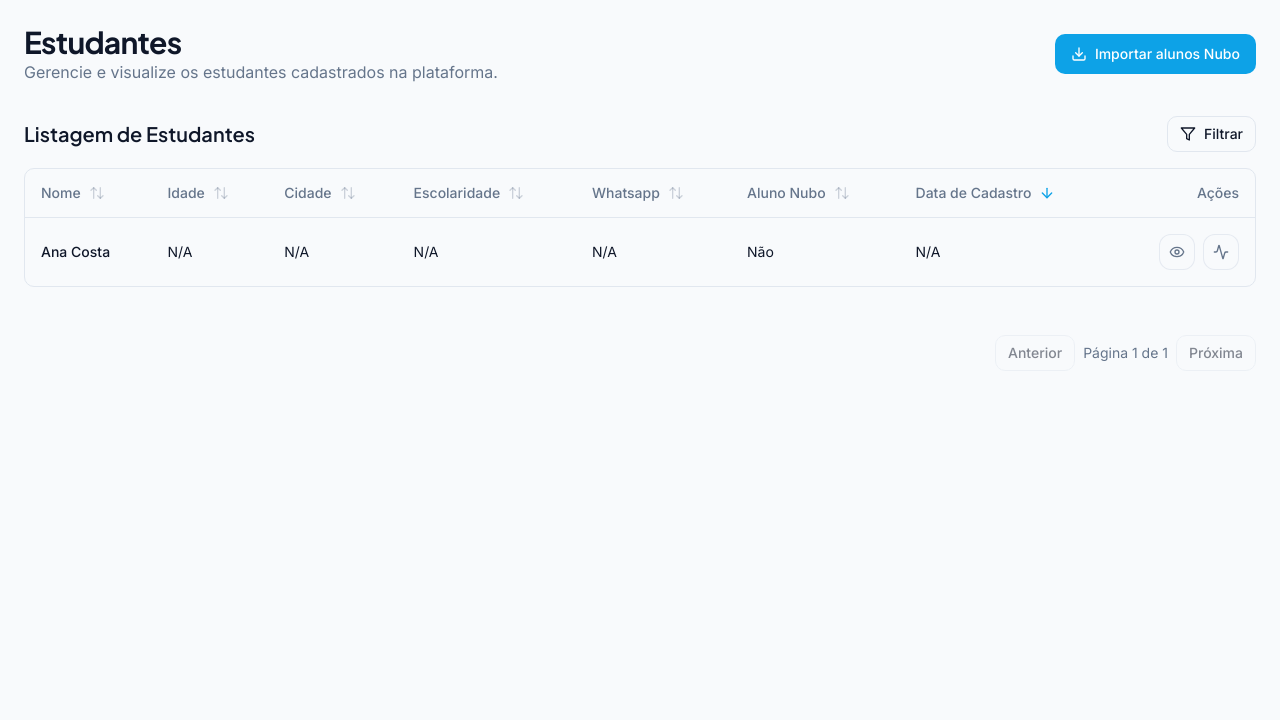
Test case: moves between profile and activity for the same student, with Matches only in activity
Click the button named "Ver perfil".
click(1177, 252)  # box [1159, 234, 1195, 270]
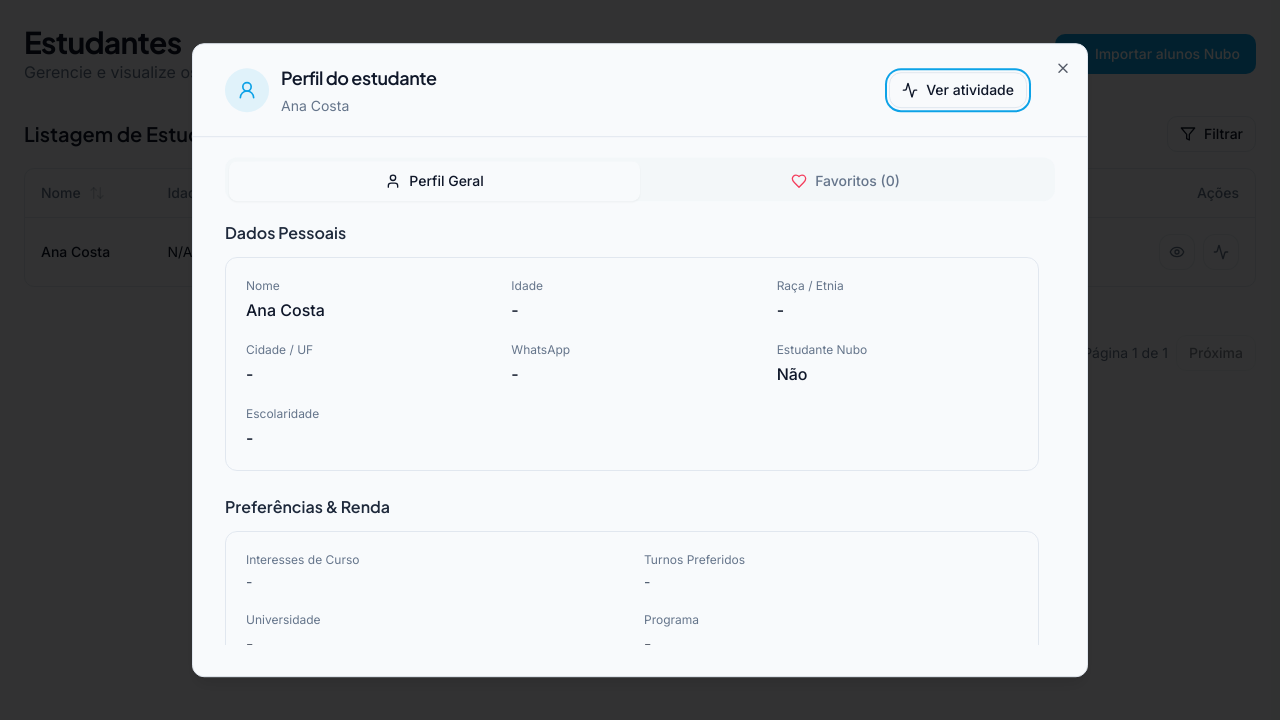
Check: the heading "Perfil do estudante" is shown, box [281, 66, 436, 89]
Check: the tab "Perfil Geral" is shown, box [229, 161, 640, 201]
Check: the number of tabs is 2, box [229, 161, 640, 201]; [640, 161, 1051, 201]
Click the button "Ver atividade".
click(958, 90)  # box [889, 72, 1027, 108]
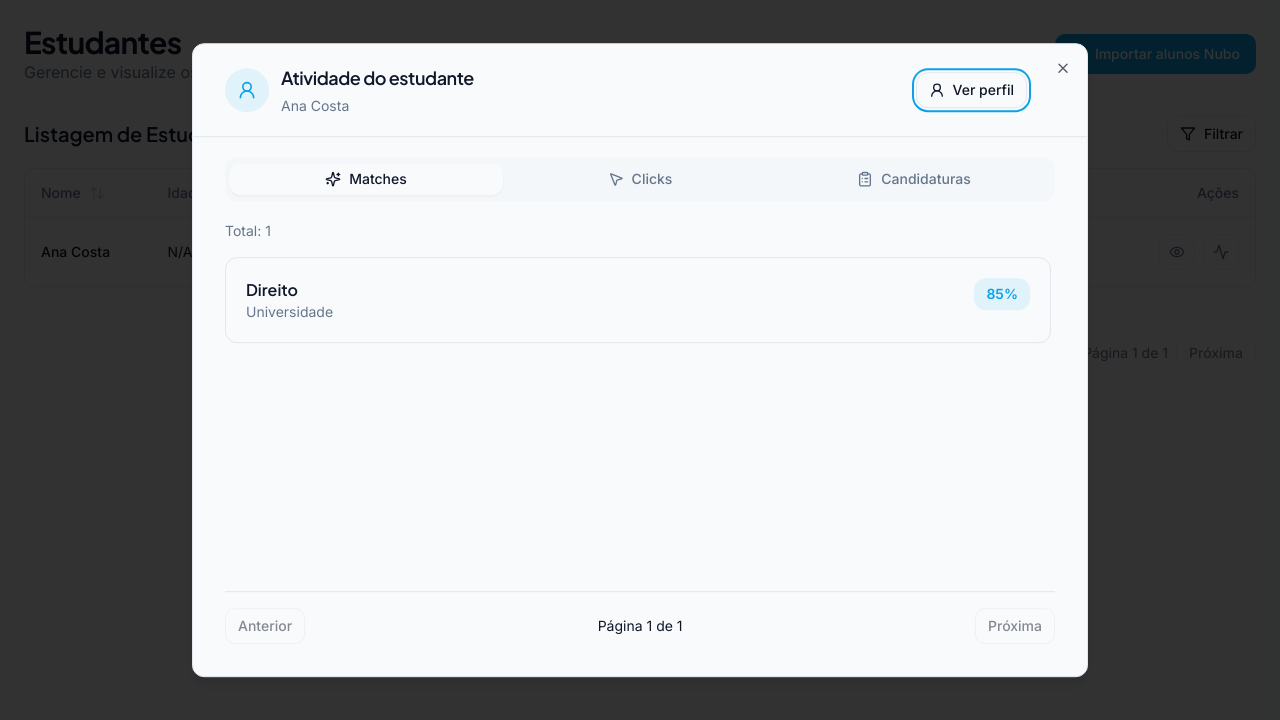
Check: the heading "Atividade do estudante" is shown, box [281, 66, 474, 89]
Check: the heading "Direito" is shown, box [246, 279, 298, 300]
Check: the number of tabs is 3, box [229, 163, 503, 195]; [503, 163, 777, 195]; [777, 163, 1051, 195]
Click the button "Ver perfil".
click(971, 90)  # box [916, 72, 1027, 108]
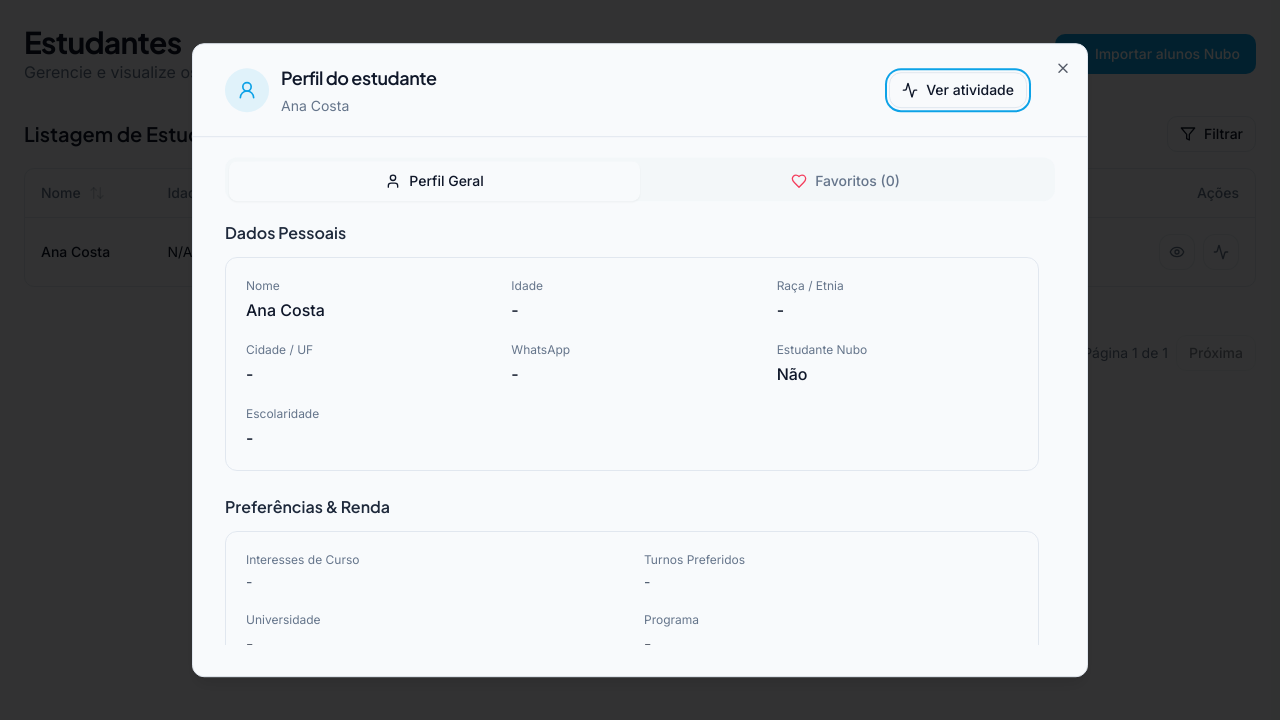
Check: the heading "Perfil do estudante" is shown, box [281, 66, 436, 89]
Check: the heading "Atividade do estudante" is gone
Check: the number of tabs is 2, box [229, 161, 640, 201]; [640, 161, 1051, 201]
